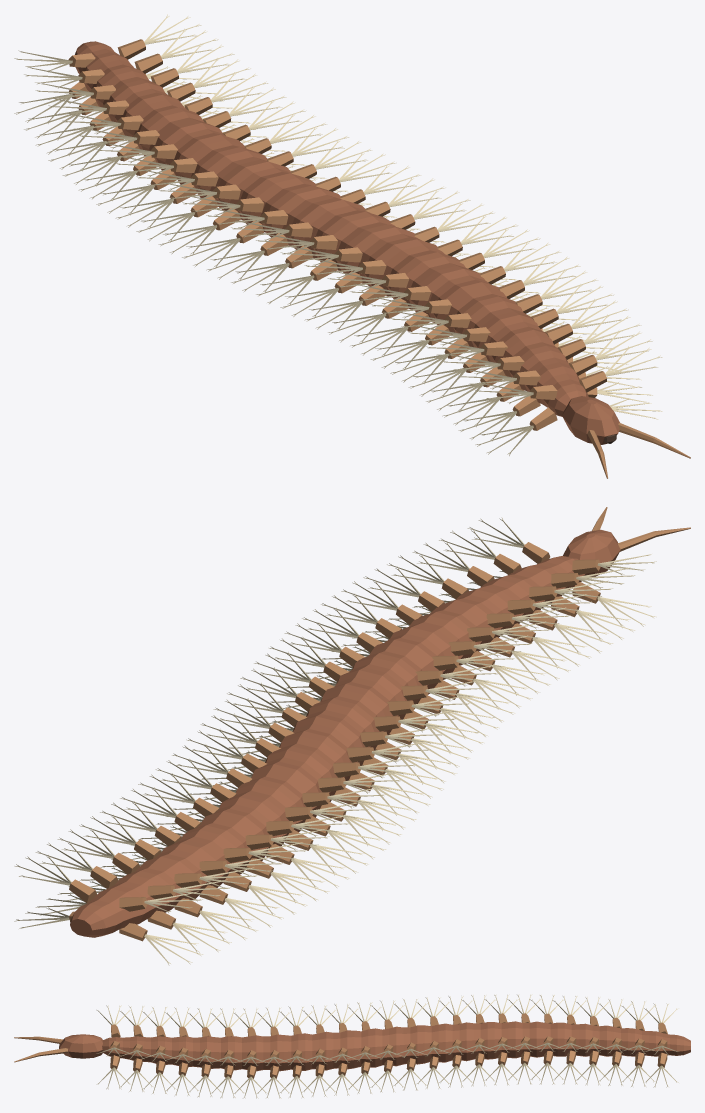
The picture shows the model from 3 angles, top to bottom: view 1: azimuth 30°, elevation 25°; view 2: azimuth 150°, elevation 25°; view 3: azimuth 270°, elevation 25°; orthographic projection. The views are drawn at different scales.
Visible parts, largest first — view 1: continuous_shallow_annulated_soft_trunk, lateral_four_sampled_chaetae_per_ramus, uniform_equant_notopodial_lobes, uniform_equant_neuropodial_lobes, tiny_bifid_chaetal_tips, differentiated_head, exactly_two_smooth_anterior_palps; view 2: continuous_shallow_annulated_soft_trunk, lateral_four_sampled_chaetae_per_ramus, uniform_equant_notopodial_lobes, uniform_equant_neuropodial_lobes, tiny_bifid_chaetal_tips, differentiated_head; view 3: continuous_shallow_annulated_soft_trunk, lateral_four_sampled_chaetae_per_ramus, uniform_equant_notopodial_lobes, uniform_equant_neuropodial_lobes, tiny_bifid_chaetal_tips, differentiated_head, exactly_two_smooth_anterior_palps.
Part boxes in pixels (bbox=[...]): continuous_shallow_annulated_soft_trunk: bbox=[75, 41, 588, 416]; lateral_four_sampled_chaetae_per_ramus: bbox=[20, 18, 656, 452]; uniform_equant_notopodial_lobes: bbox=[68, 39, 606, 399]; uniform_equant_neuropodial_lobes: bbox=[69, 73, 597, 430]; tiny_bifid_chaetal_tips: bbox=[14, 14, 662, 455]; differentiated_head: bbox=[562, 396, 619, 444]; exactly_two_smooth_anterior_palps: bbox=[587, 422, 690, 478]; continuous_shallow_annulated_soft_trunk: bbox=[70, 556, 584, 937]; lateral_four_sampled_chaetae_per_ramus: bbox=[20, 521, 650, 961]; uniform_equant_notopodial_lobes: bbox=[69, 542, 600, 911]; uniform_equant_neuropodial_lobes: bbox=[69, 582, 600, 941]; tiny_bifid_chaetal_tips: bbox=[14, 517, 656, 965]; differentiated_head: bbox=[563, 529, 620, 576]; continuous_shallow_annulated_soft_trunk: bbox=[102, 1021, 690, 1071]; lateral_four_sampled_chaetae_per_ramus: bbox=[99, 996, 675, 1096]; uniform_equant_notopodial_lobes: bbox=[110, 1013, 667, 1060]; uniform_equant_neuropodial_lobes: bbox=[110, 1050, 667, 1078]; tiny_bifid_chaetal_tips: bbox=[96, 994, 678, 1098]; differentiated_head: bbox=[59, 1034, 102, 1058]; exactly_two_smooth_anterior_palps: bbox=[14, 1036, 67, 1062].
Size of the model in its own units: 0.0135 by 0.00292 by 0.054.
